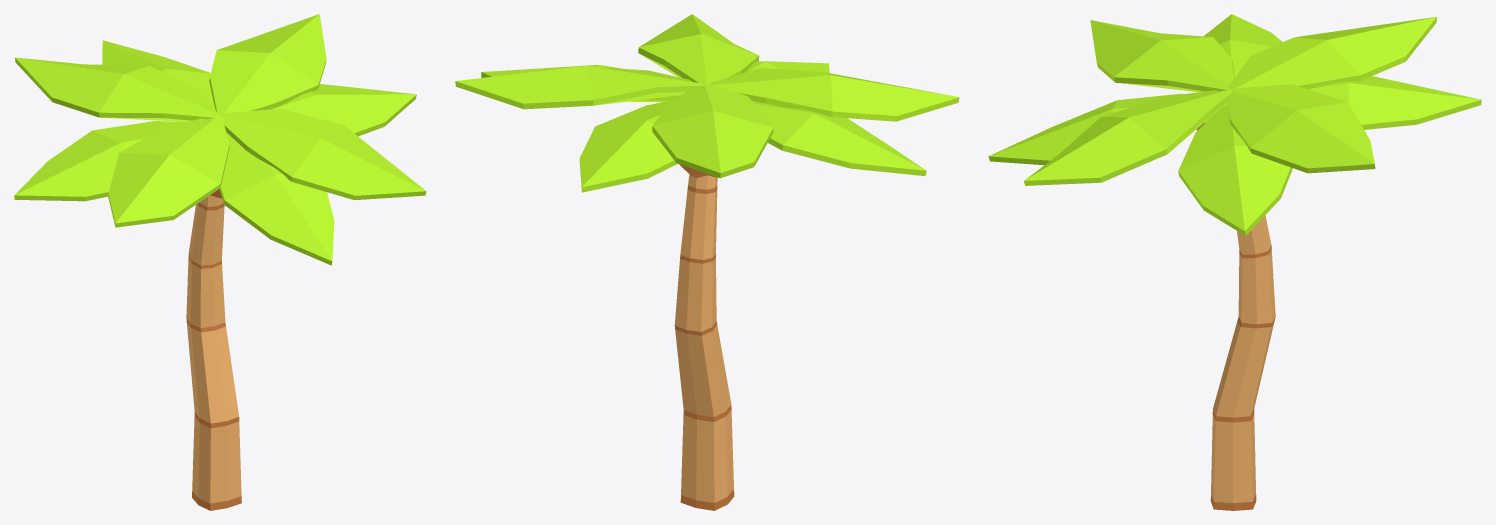
The model's file is palmera.fbx.
The picture shows the model from 3 angles, left to right: view 1: azimuth 30°, elevation 25°; view 2: azimuth 150°, elevation 25°; view 3: azimuth 270°, elevation 25°; orthographic projection. The views are drawn at different scales.
Parts seen in each view (by area): view 1: Cube.001; view 2: Cube.001; view 3: Cube.001.
Part boxes in pixels (x1,y1,x2,y2): Cube.001: [14, 14, 426, 510]; Cube.001: [455, 14, 959, 510]; Cube.001: [988, 14, 1481, 510].
Bounding box in the file's own units: 2910 × 2763 × 2836.
